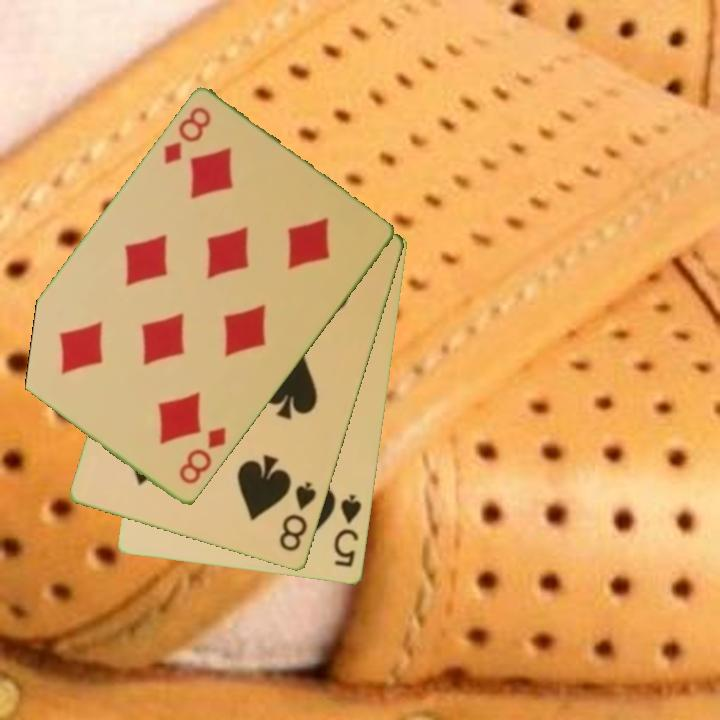5s: (330, 491, 365, 571)
8d: (159, 103, 214, 168), (175, 424, 229, 488)
8s: (276, 478, 320, 555)
